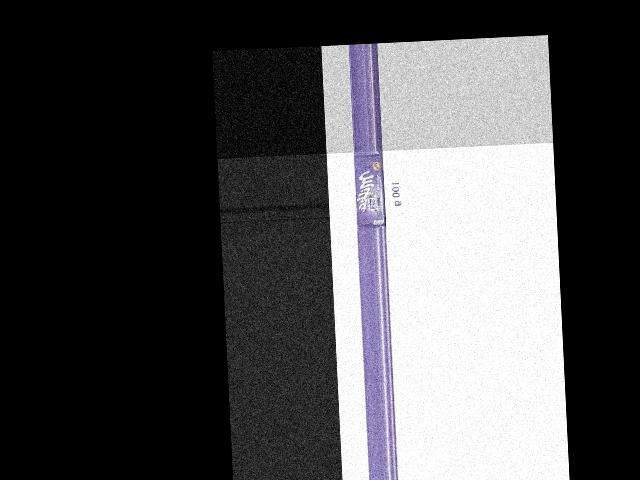chocolate: (353, 152, 391, 230)
